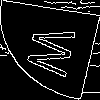W: (25, 24, 88, 80)
